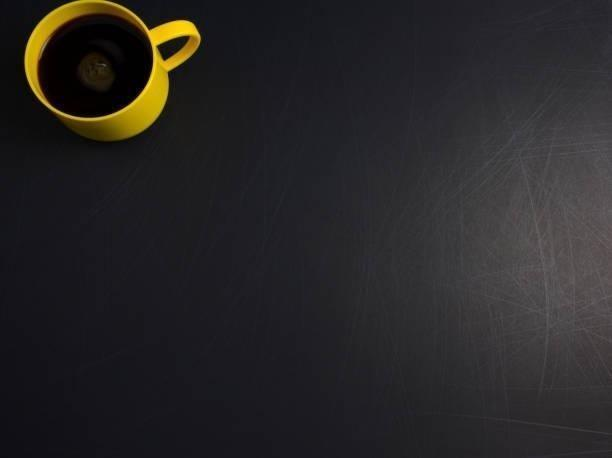cup-handle: (23, 0, 202, 143)
